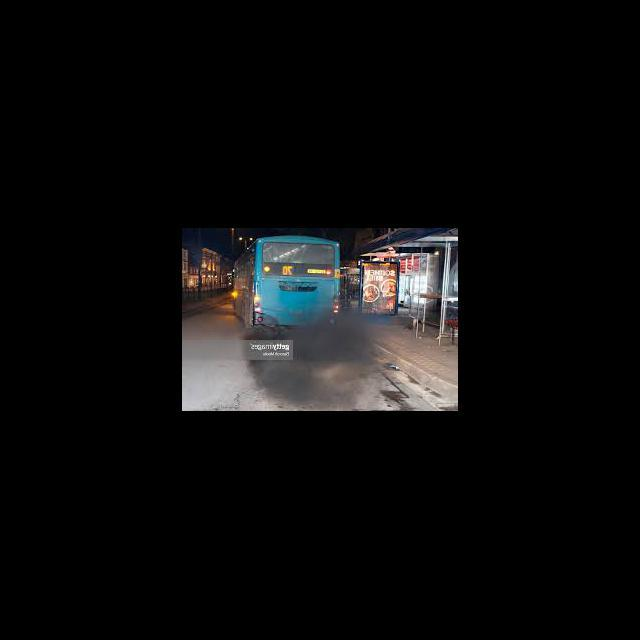Smoke: (300, 318, 366, 359)
